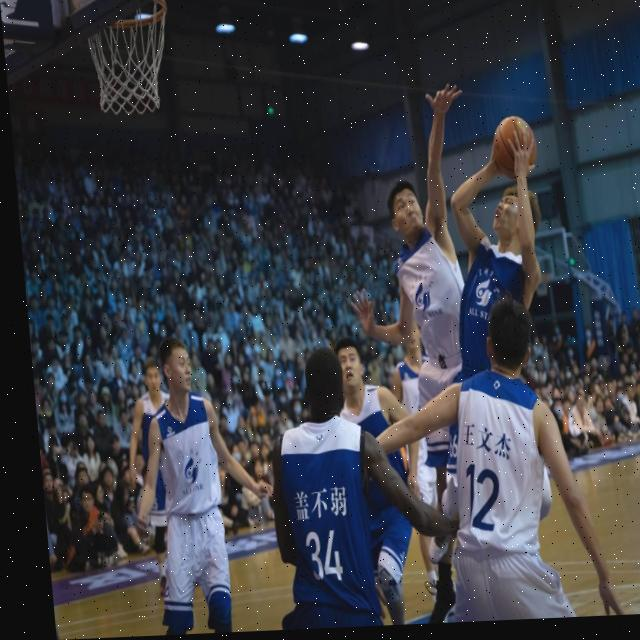basketball: (490, 115, 540, 182)
hoop: (77, 0, 176, 118)
